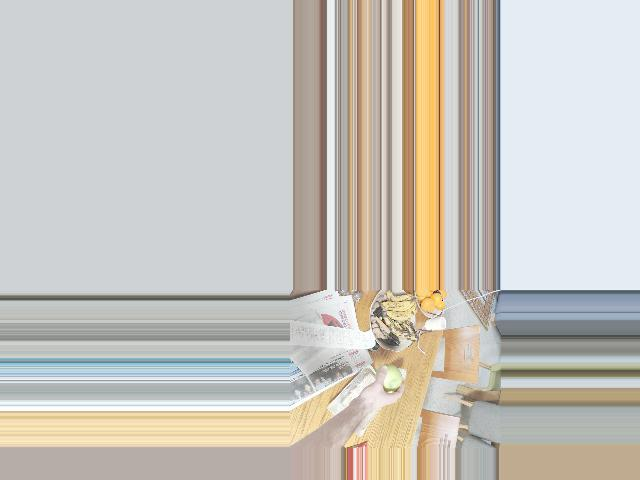apple: (367, 366, 401, 396)
